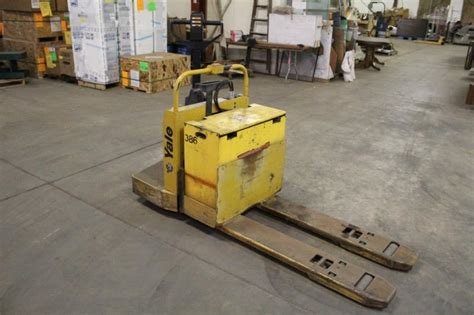Pallet Jack: (131, 12, 420, 310)
